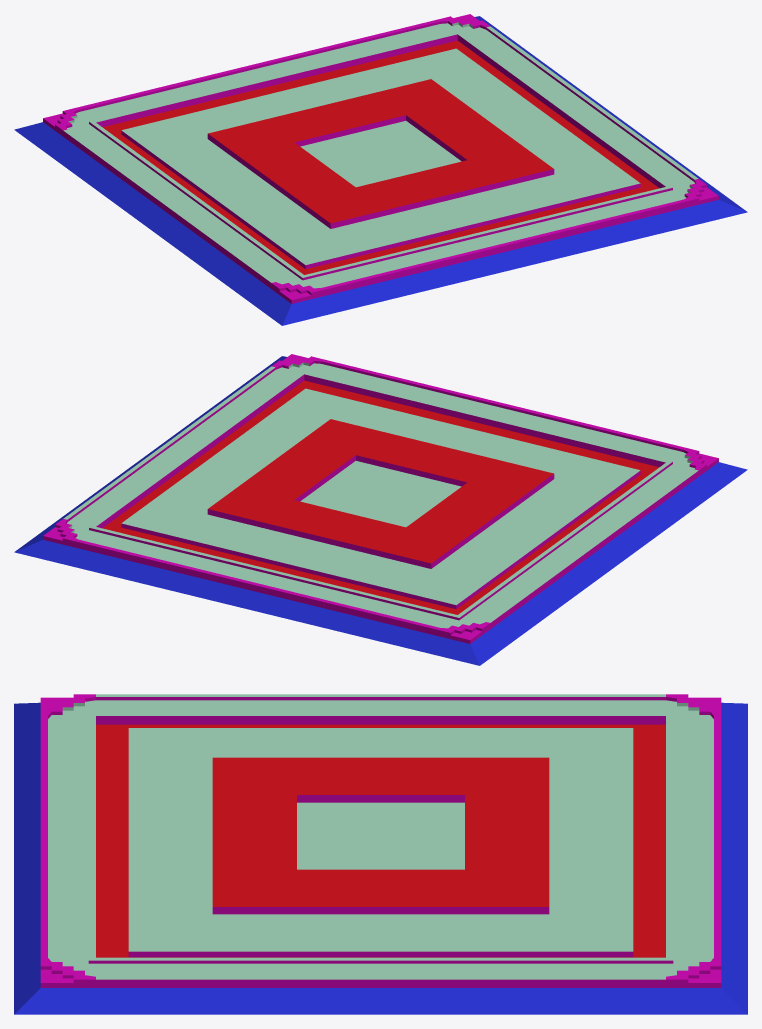
File: top.fbx
3 views of the same model, one above another, from view 1: azimuth 30°, elevation 25°; view 2: azimuth 150°, elevation 25°; view 3: azimuth 270°, elevation 25° (orthographic). The views are drawn at different scales.
Visible parts, largest first — view 1: Плоскость; view 2: Плоскость; view 3: Плоскость.
Part boxes in pixels (x1,y1,x2,y2): Плоскость: (14, 14, 747, 325); Плоскость: (14, 354, 747, 665); Плоскость: (14, 694, 747, 1014).
Size of the model in its own units: 123 by 4.98 by 123.
